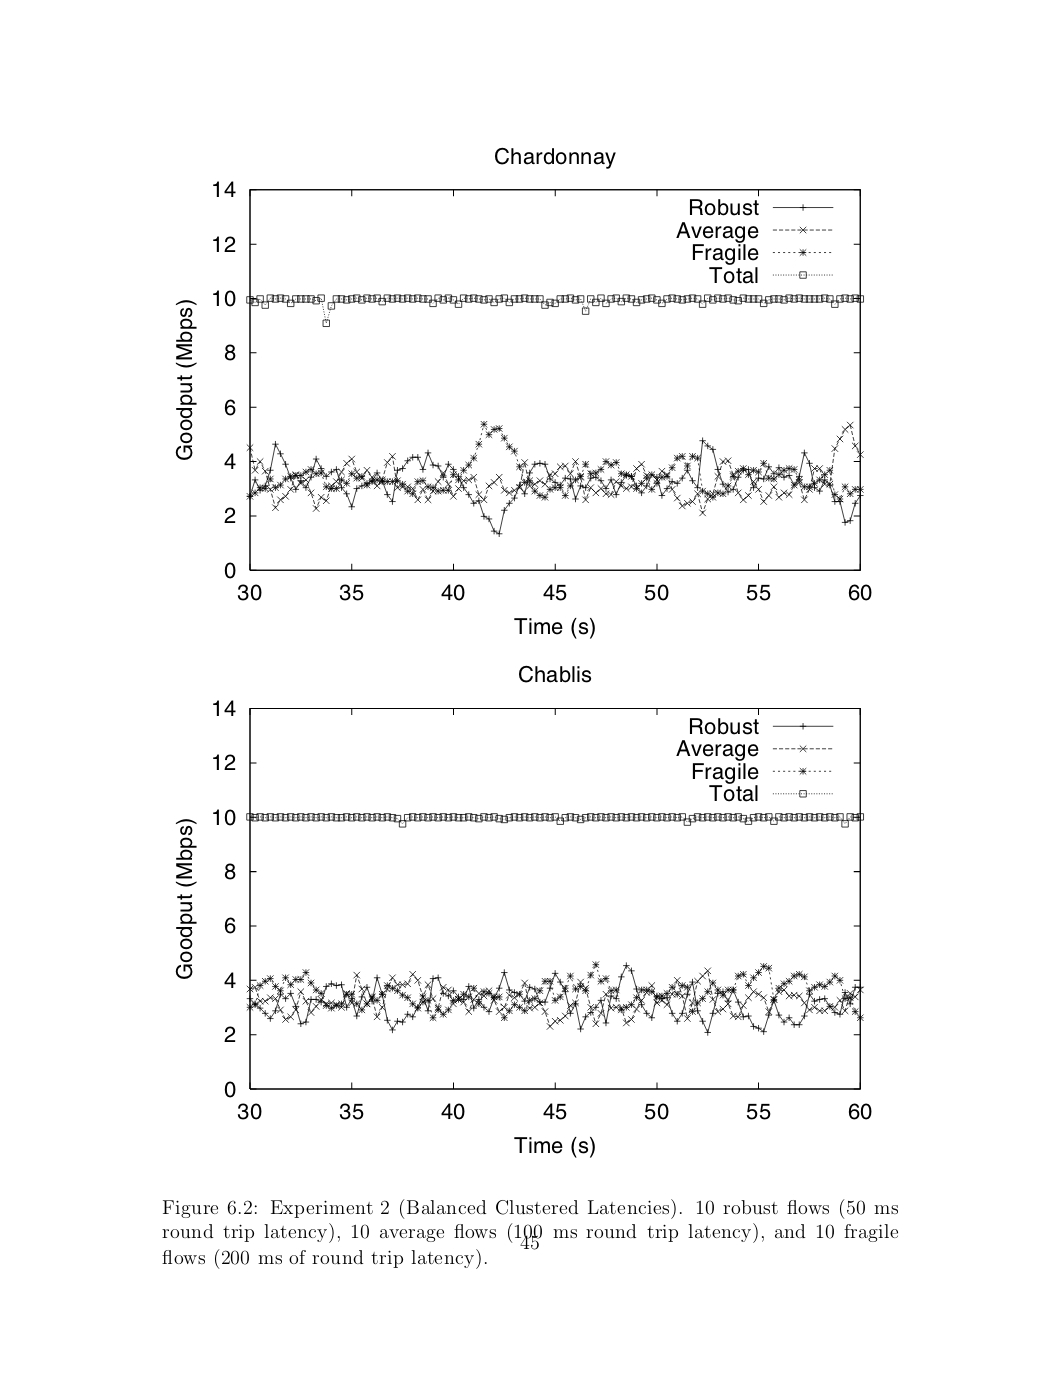figure: (175, 181, 872, 637), (175, 700, 872, 1157)
